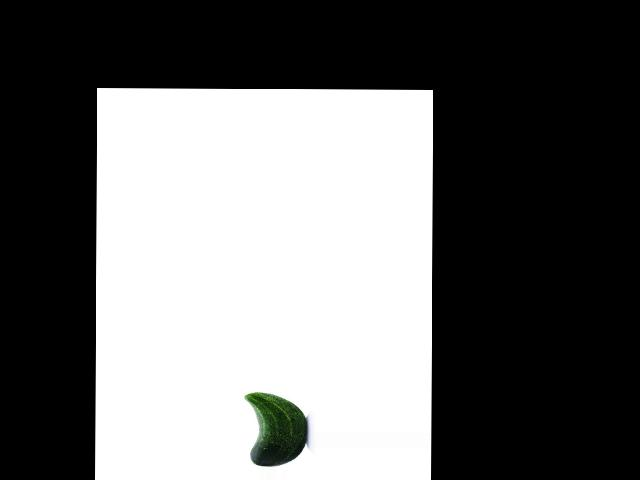cucumber: (244, 391, 307, 466)
